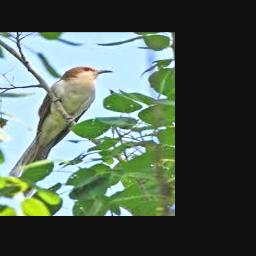Cuckoo: (7, 66, 114, 196)
